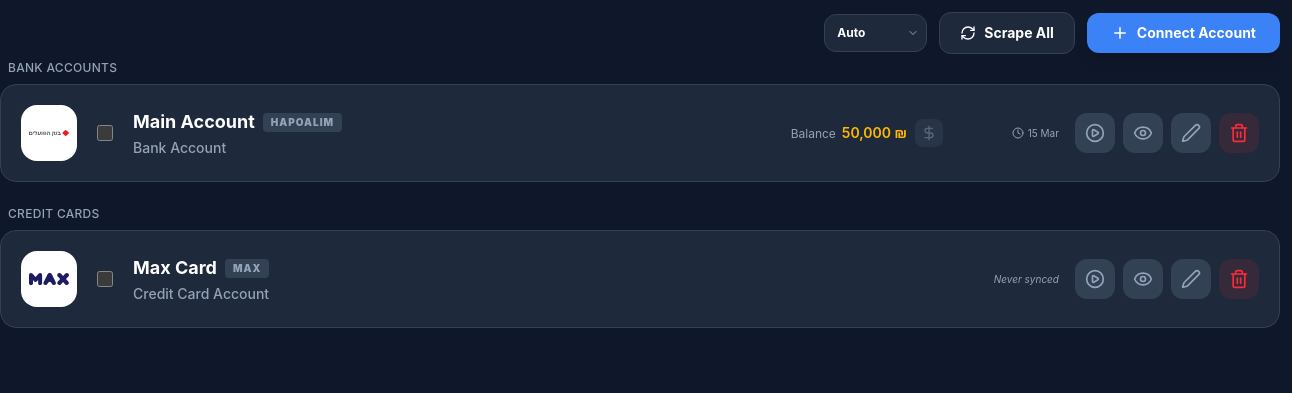
DataSources › selecting sources to scrape › ticks every source from the selection bar's select-all
This screenshot has width=1292, height=393.
Check: the heading "Main Account" is shown, box [133,108,255,136]
What coordinates should you click on to do the following:
click the checkbox named "select Max Card for scraping"
I would click on:
 (105, 279)
Its box is [97,271,113,287].
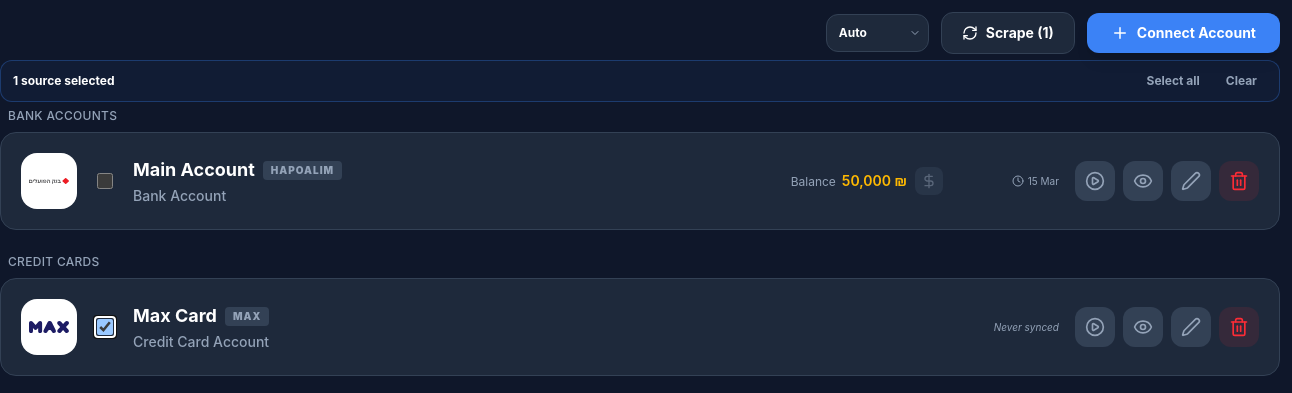
What coordinates should you click on to do the following:
click the button "Select all"
I would click on:
 (1173, 81)
Its box is [1137,69,1210,93].
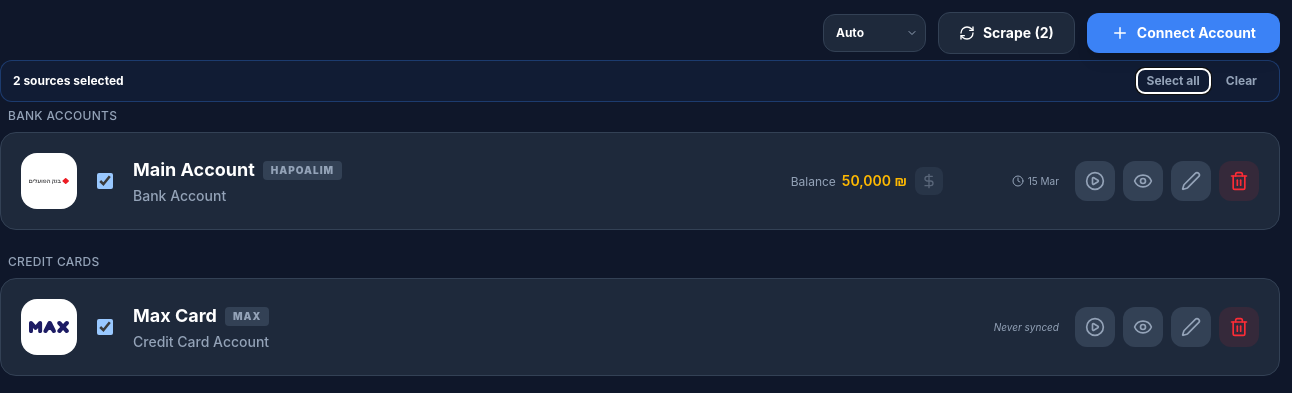
Check: the 2nd checkbox with test id "select-source" is checked, box [97,319,113,335]
Check: the element with test id "selection-bar" shows "2 sources selected", box [13,73,124,88]
Check: the 1st checkbox with test id "select-source" is checked, box [97,173,113,189]
